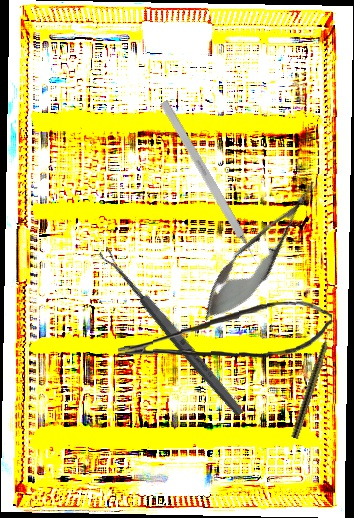Handpiece: (290, 323, 337, 440)
Hook Surgical: (159, 99, 264, 270)
Micro Scissor: (190, 168, 333, 335), (116, 297, 333, 364)
Surgical Spoon: (97, 245, 247, 419)
